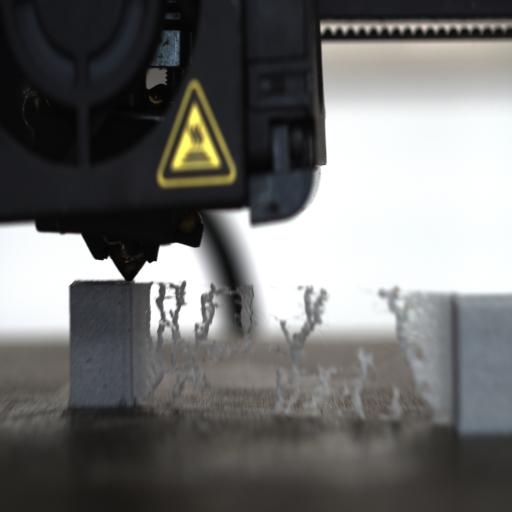stringing: (274, 285, 404, 419), (143, 280, 264, 408), (276, 283, 330, 362), (143, 287, 175, 404), (130, 282, 154, 404), (153, 281, 188, 352), (311, 362, 339, 417), (378, 285, 408, 326)
